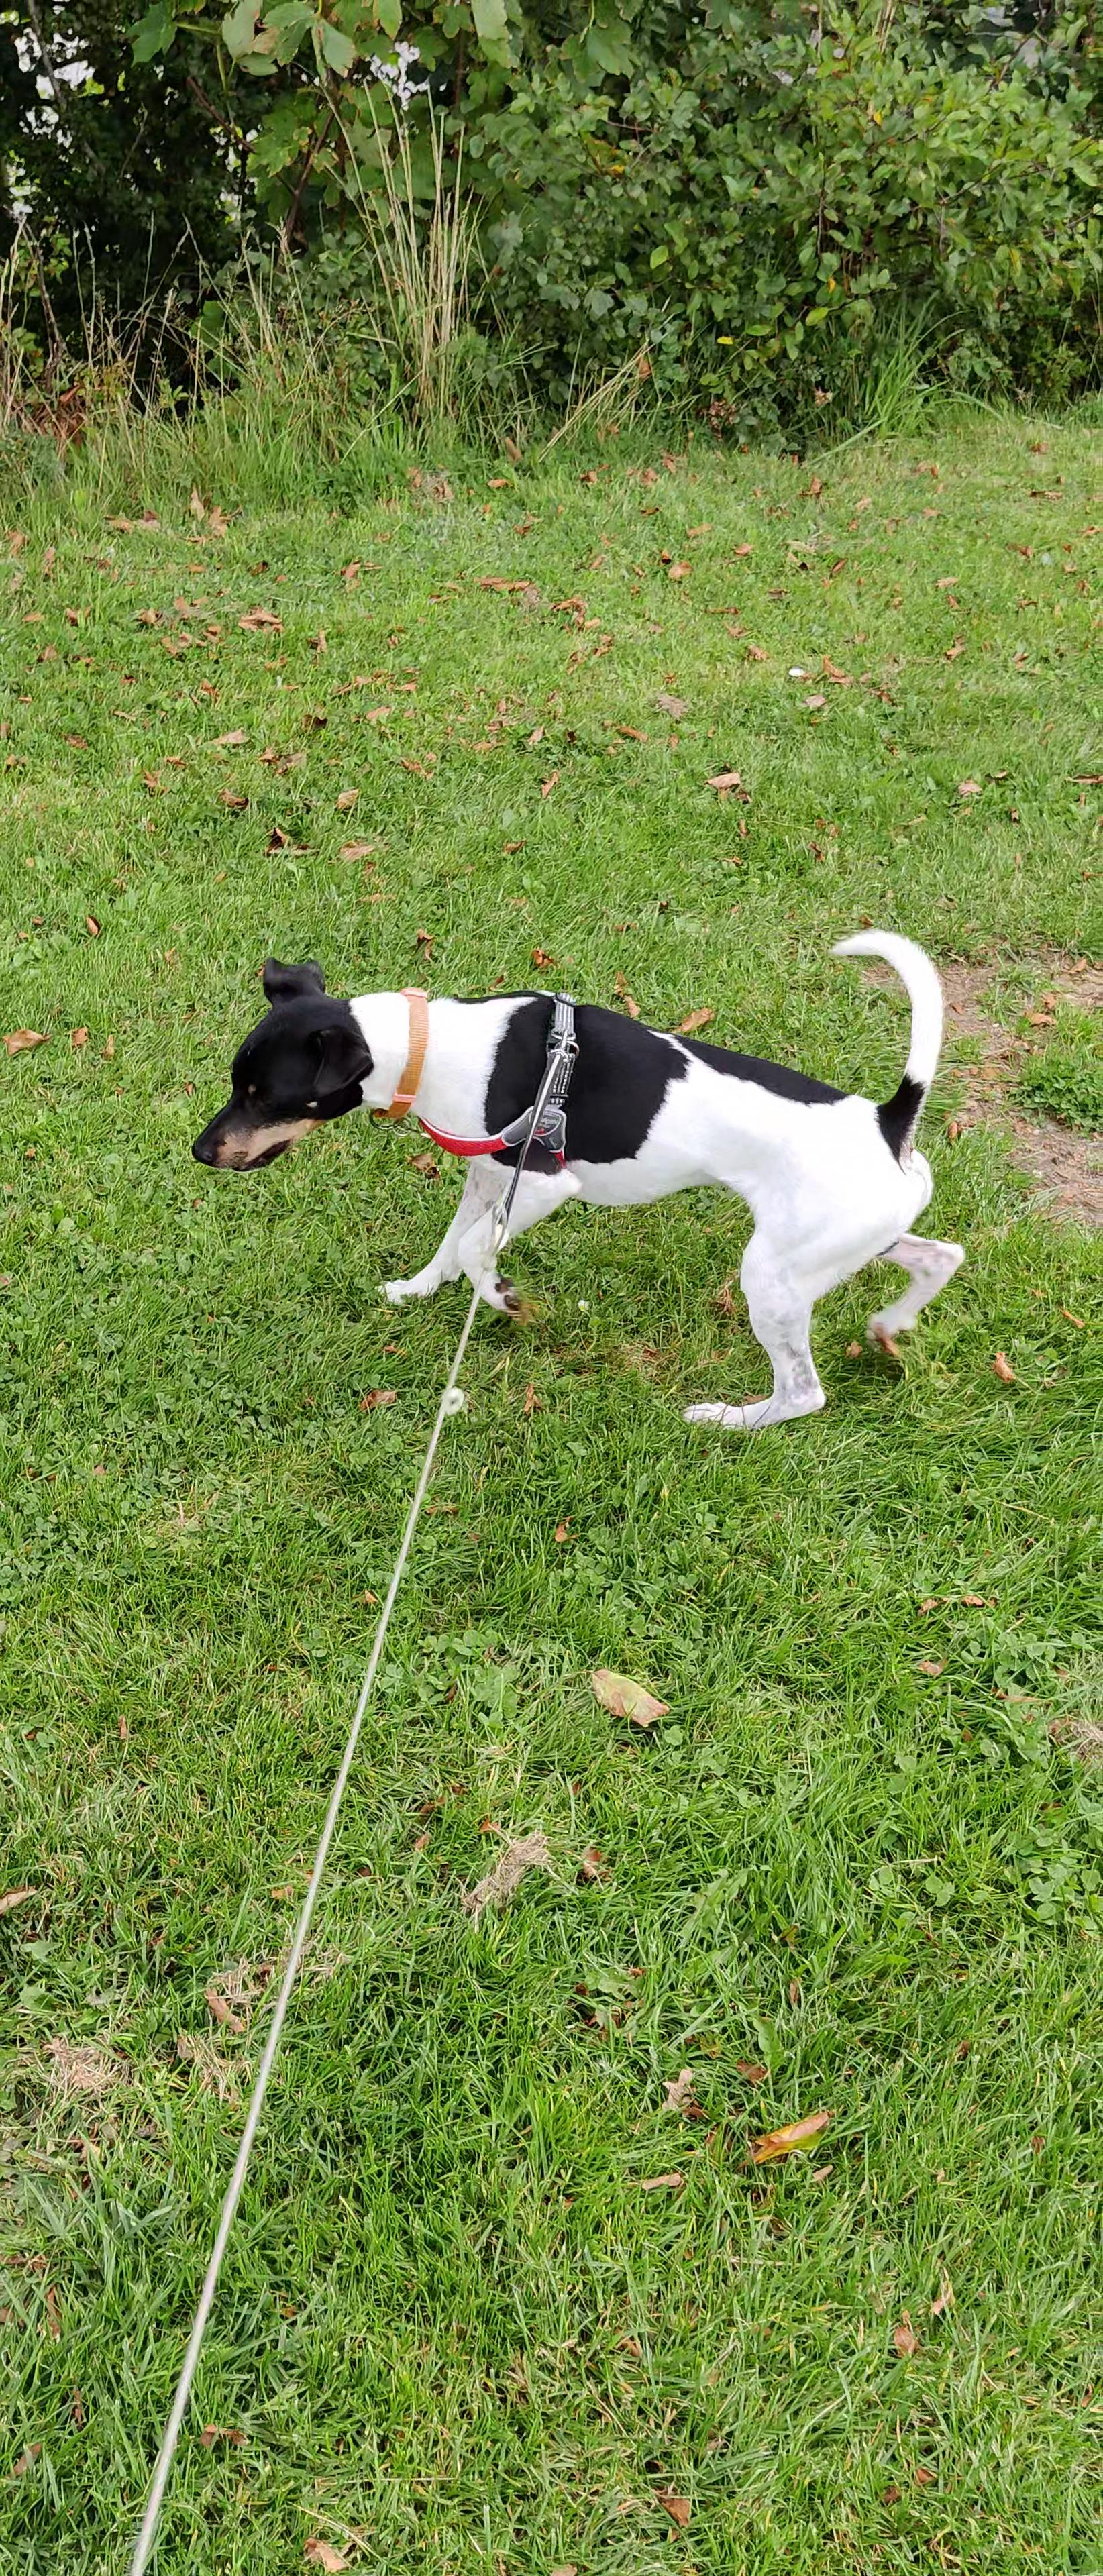Dog: (164, 908, 1004, 1459)
